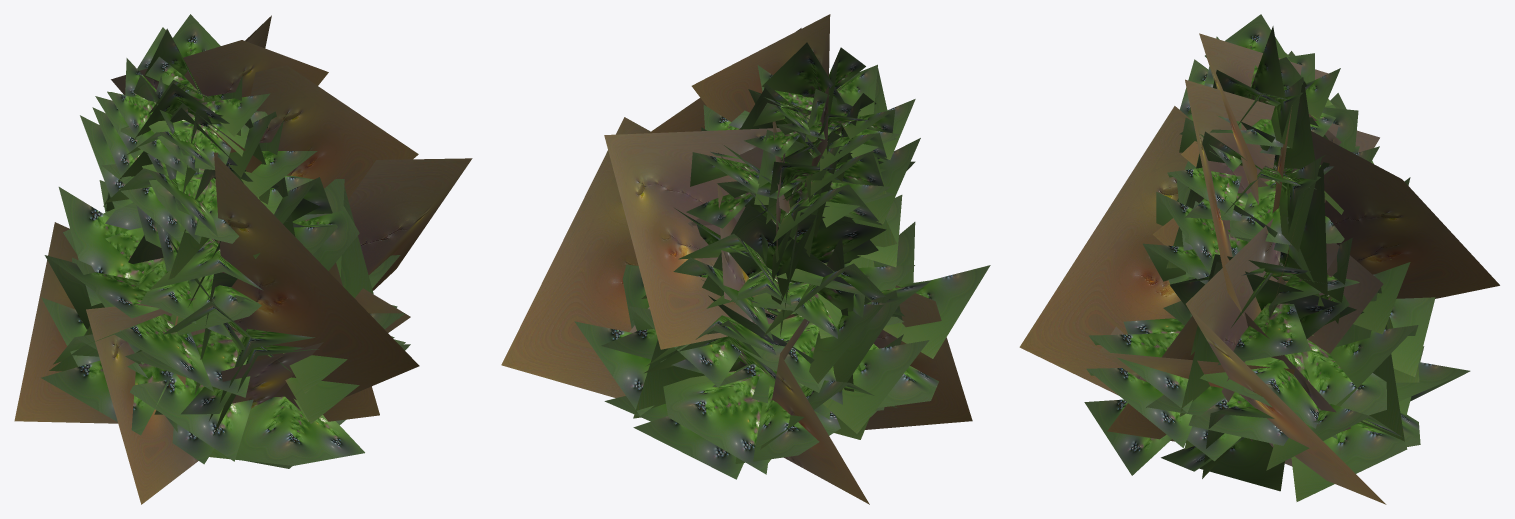
Rendered from hartriegel-high.DAE.
3 views of the same model, side by side, from view 1: azimuth 30°, elevation 25°; view 2: azimuth 150°, elevation 25°; view 3: azimuth 270°, elevation 25° (orthographic). The views are drawn at different scales.
Parts seen in each view (by area): view 1: cornus_bush; view 2: cornus_bush; view 3: cornus_bush.
Boxes of the visible parts, left/top/right/bottom form: cornus_bush: left=14, top=14, right=472, bottom=504; cornus_bush: left=501, top=14, right=990, bottom=504; cornus_bush: left=1019, top=14, right=1499, bottom=504.
Size of what is drawn, in the model's own units: 370 by 391 by 400.
